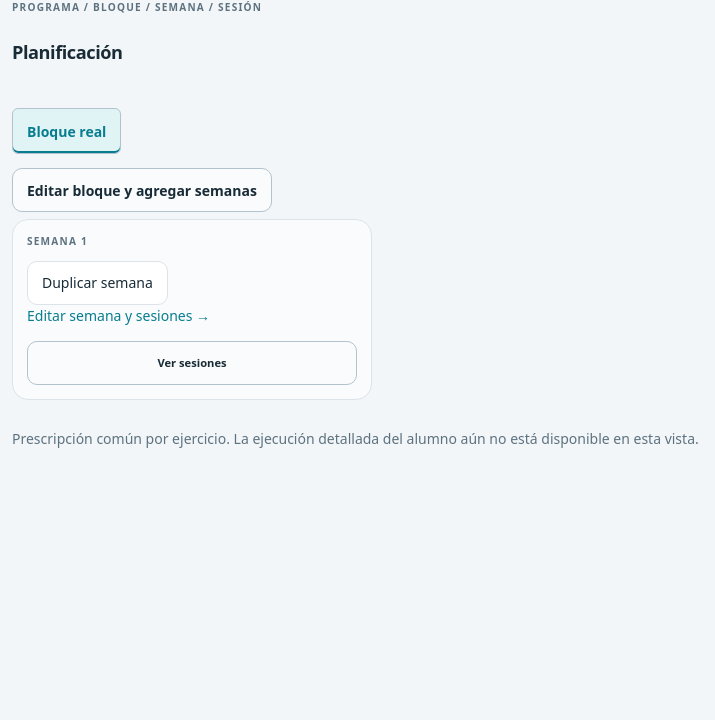
Test: Tablero de programación › carga bajo demanda la jerarquía real y conserva enlaces de edición
This screenshot has width=715, height=720.
What coordinates should you click on to do the following:
click the button "Ver sesiones"
I would click on:
 (192, 363)
Its box is [27,341,357,385].
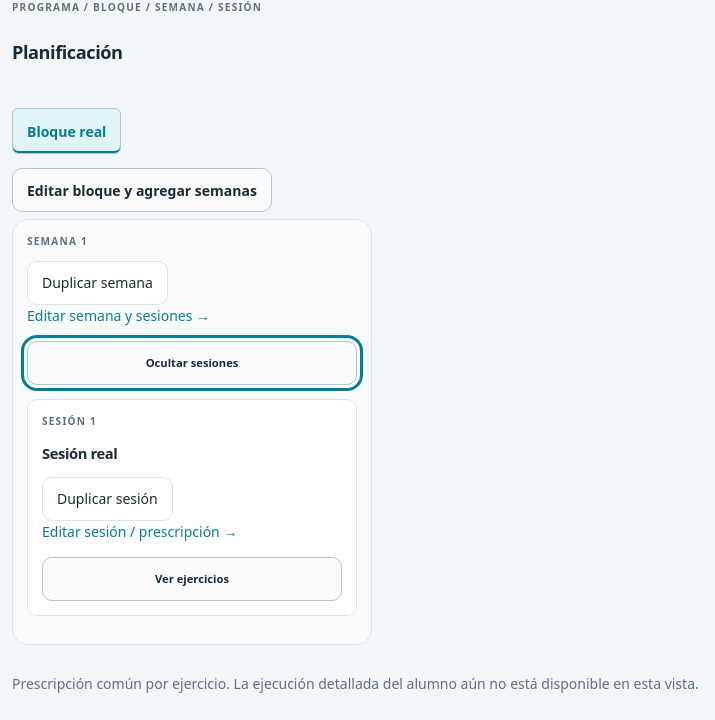
What coordinates should you click on to do the following:
click the button "Ver ejercicios"
I would click on:
 (192, 579)
Its box is [42,557,342,601].
(page scrolled)
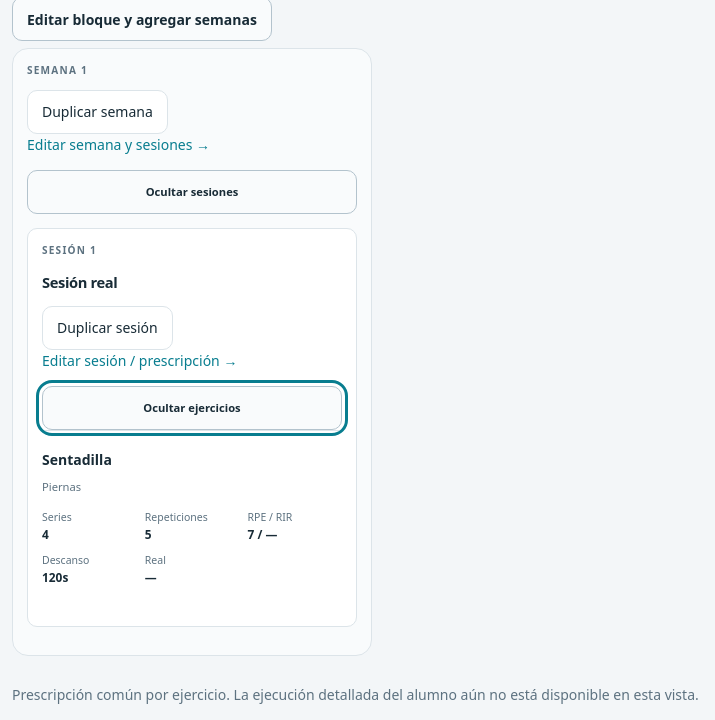
Check: the heading "Sentadilla" is shown, box [42,450,112,469]
Check: the text "—" is shown, box [145,569,157,585]
